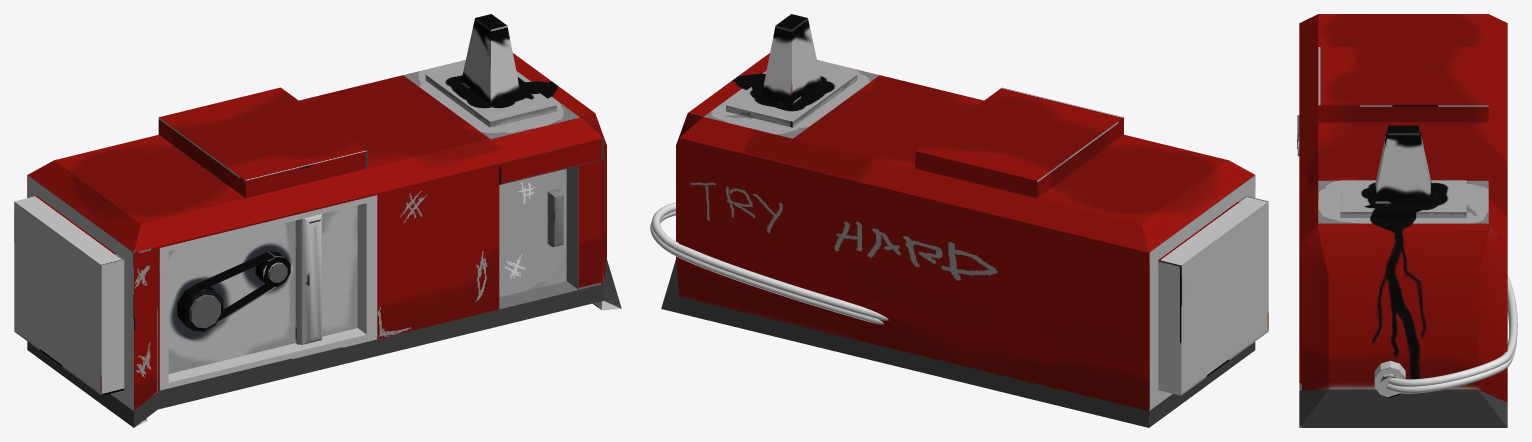
Rendered from generator.glb.
3 views of the same model, side by side, from view 1: azimuth 30°, elevation 25°; view 2: azimuth 150°, elevation 25°; view 3: azimuth 270°, elevation 25° (orthographic). The views are drawn at different scales.
Parts seen in each view (by area): view 1: Cube; view 2: Cube, BézierCurve.001, BézierCurve; view 3: Cube, BézierCurve.001, BézierCurve.
Part boxes in pixels (box(x1,y1,x2,y2)): Cube: box(14, 14, 621, 427); Cube: box(661, 14, 1268, 427); BézierCurve.001: box(651, 202, 888, 320); BézierCurve: box(650, 211, 884, 324); Cube: box(1297, 14, 1507, 427); BézierCurve.001: box(1388, 275, 1517, 386); BézierCurve: box(1386, 304, 1516, 393).
Size of the model in its own units: 5.95 by 2.77 by 2.12.
1 material, 1 textured.
